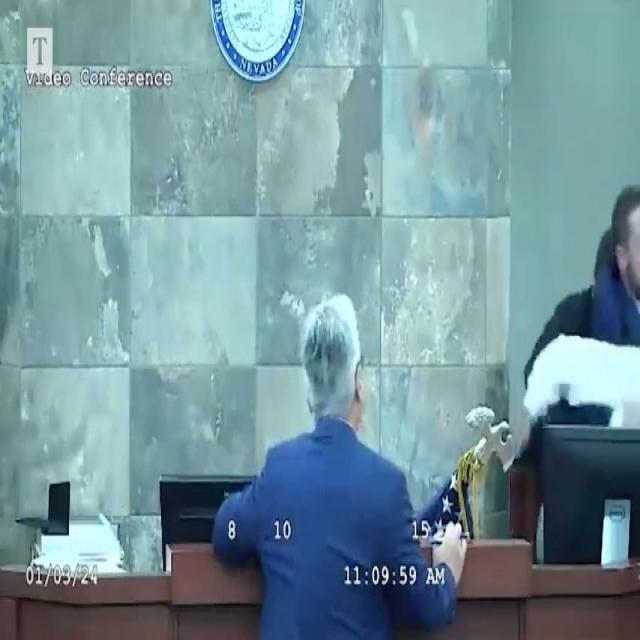fight: (525, 177, 640, 427)
non-fight: (210, 283, 468, 640)
